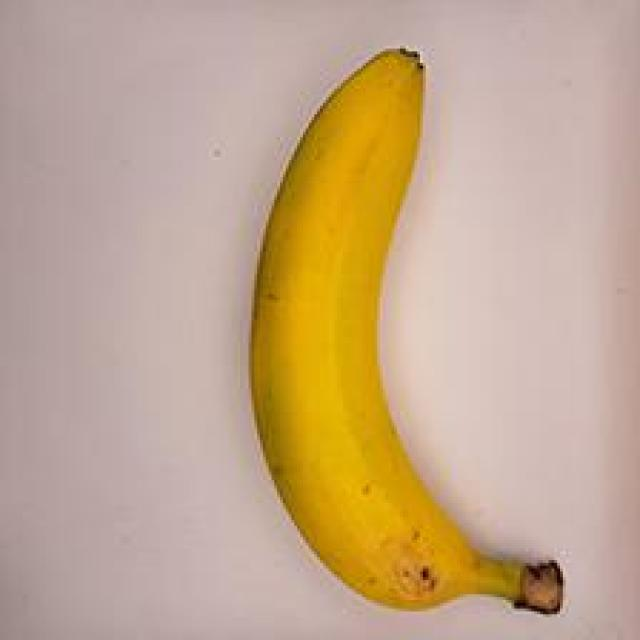Ripe: (218, 35, 591, 640)
